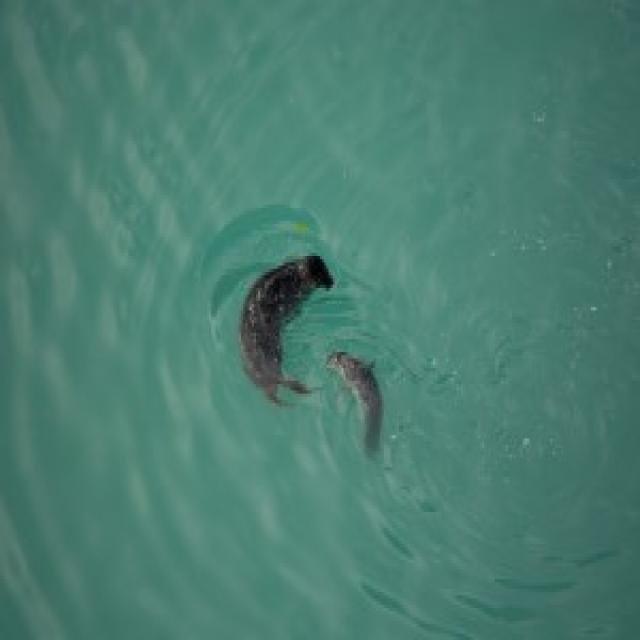Seal: (219, 248, 337, 416), (331, 345, 388, 464)
